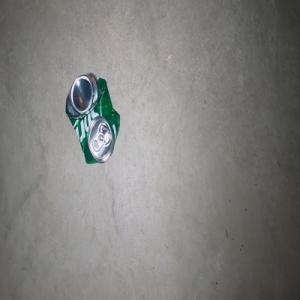SodaCan: (65, 72, 120, 164)
